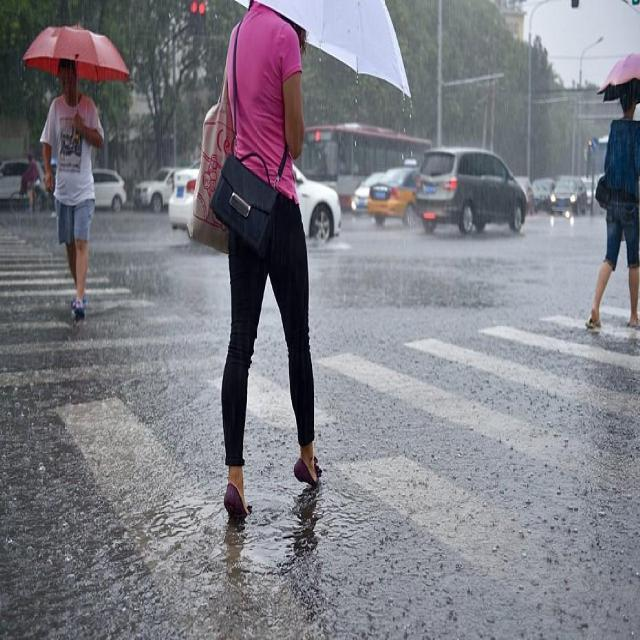car: (168, 150, 341, 242), (414, 144, 528, 232), (366, 154, 441, 226), (72, 165, 126, 208), (134, 168, 194, 206), (548, 172, 585, 218)
